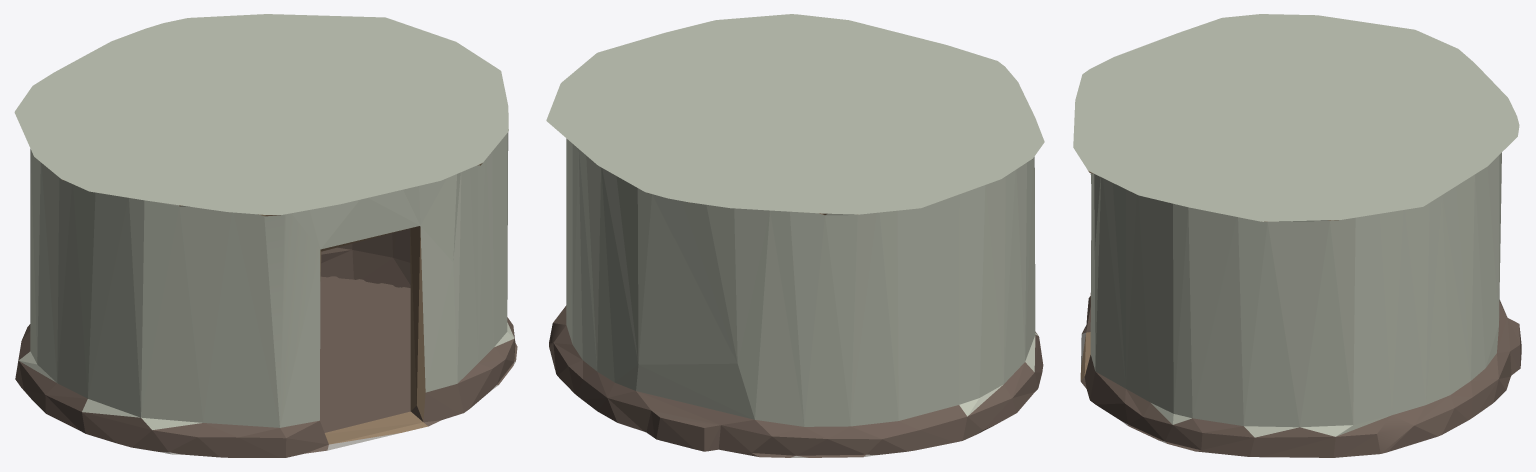
Rendered from etape-1.glb.
3 renders of one model, left to right at view 1: azimuth 30°, elevation 25°; view 2: azimuth 150°, elevation 25°; view 3: azimuth 270°, elevation 25°, orthographic. The views are drawn at different scales.
Parts seen in each view (by area): view 1: geometry_0; view 2: geometry_0; view 3: geometry_0.
Boxes of the visible parts, x1,y1,x2,y2 form: geometry_0: (14, 14, 517, 457); geometry_0: (546, 14, 1044, 457); geometry_0: (1073, 14, 1521, 457).
Bounding box in the file's own units: 0.7315 × 0.3907 × 0.6671.
